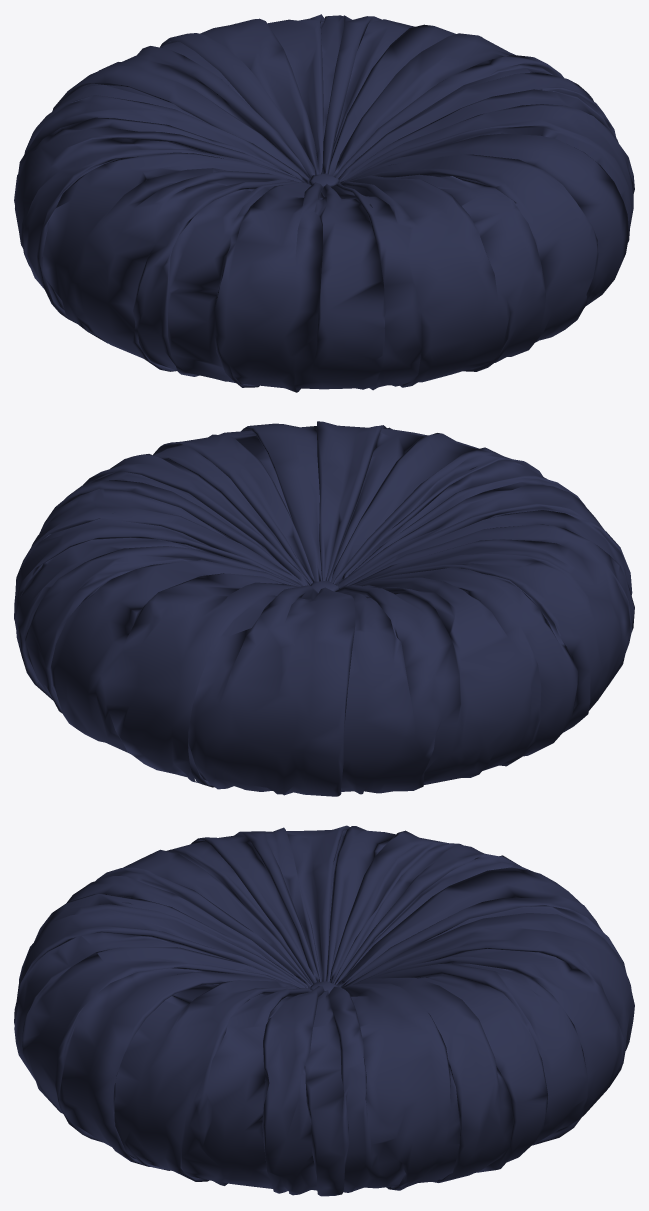
The model's file is pouf.glb.
3 renders of one model, top to bottom at view 1: azimuth 30°, elevation 25°; view 2: azimuth 150°, elevation 25°; view 3: azimuth 270°, elevation 25°, orthographic.
Visible parts, largest first — view 1: SpecularSilkPouf; view 2: SpecularSilkPouf; view 3: SpecularSilkPouf.
Boxes of the visible parts, x1=… form: SpecularSilkPouf: x1=14, y1=14, x2=634, y2=392; SpecularSilkPouf: x1=14, y1=421, x2=634, y2=796; SpecularSilkPouf: x1=14, y1=825, x2=634, y2=1196.
Bounding box in the file's own units: 0.6099 × 0.1967 × 0.6097.
